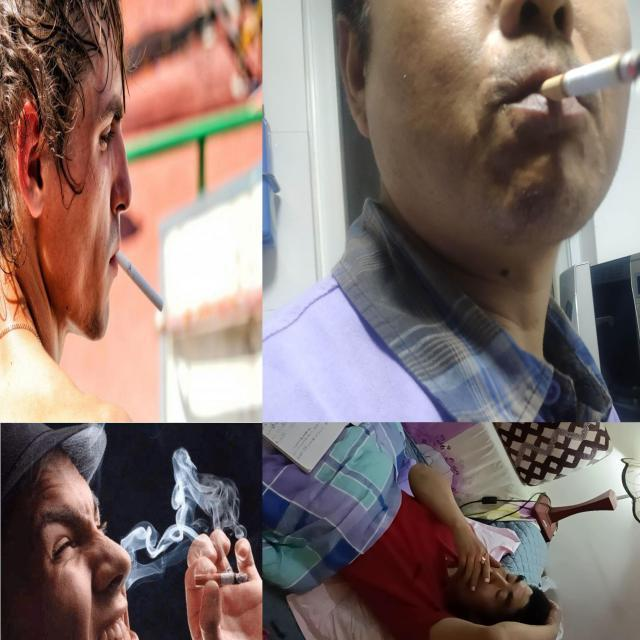rokok: (539, 47, 640, 101), (115, 246, 165, 314), (194, 574, 250, 586), (480, 552, 488, 568)
